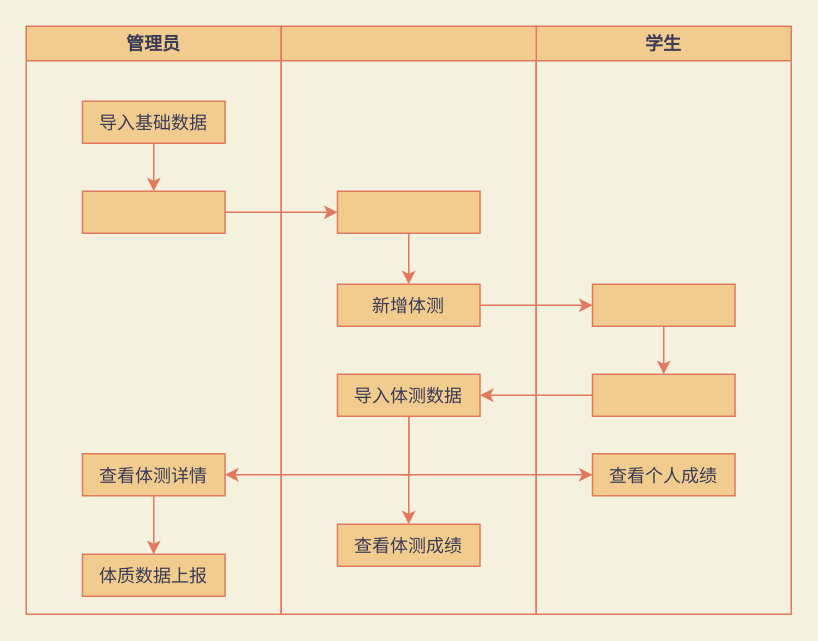
Some shapes in this 818 by 641 pixel diagram are drawn without their labels. The box of each missing label's shape, as (x1, y1, x2, y2) in pixels:
完成体测: (591, 373, 735, 416)
教师: (280, 25, 536, 614)
新增科目信息: (81, 190, 225, 233)
新建科目组: (336, 190, 480, 233)
查看体测: (591, 283, 735, 326)
